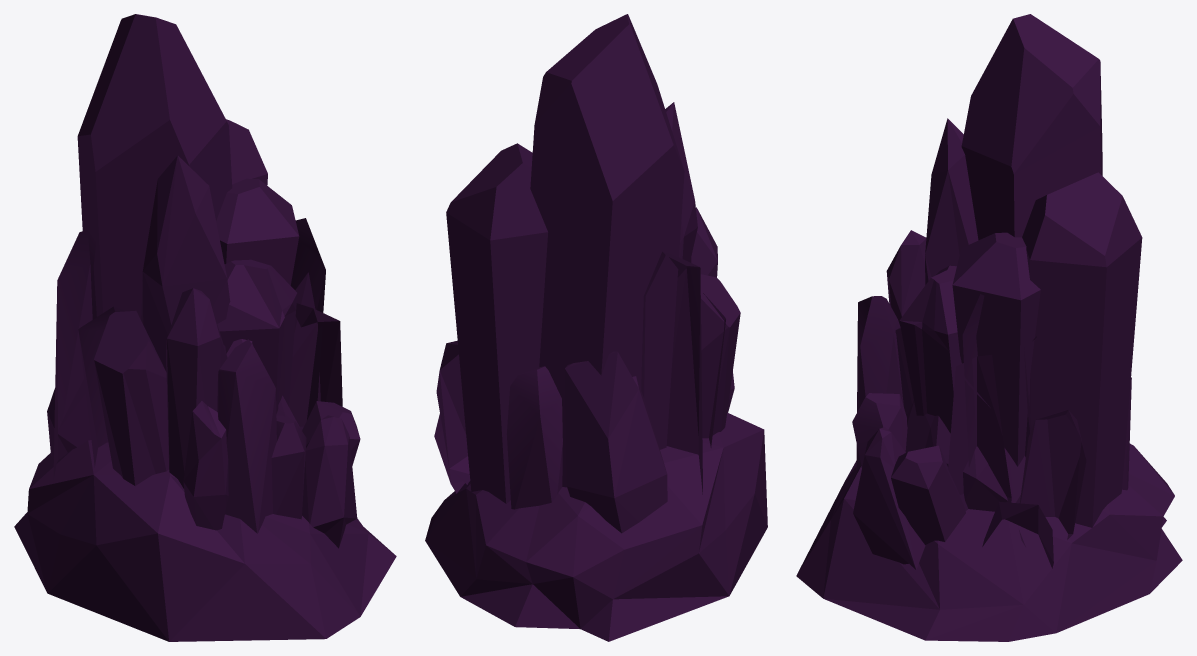
File: big_ore.fbx
3 renders of one model, left to right at view 1: azimuth 30°, elevation 25°; view 2: azimuth 150°, elevation 25°; view 3: azimuth 270°, elevation 25°, orthographic. The views are drawn at different scales.
Visible parts, largest first — view 1: big_ore; view 2: big_ore; view 3: big_ore.
Part boxes in pixels (x1,y1,x2,y2): big_ore: (14, 14, 396, 641); big_ore: (425, 14, 767, 641); big_ore: (796, 14, 1182, 641).
Bounding box in the file's own units: 1.11 × 1.28 × 1.93.
